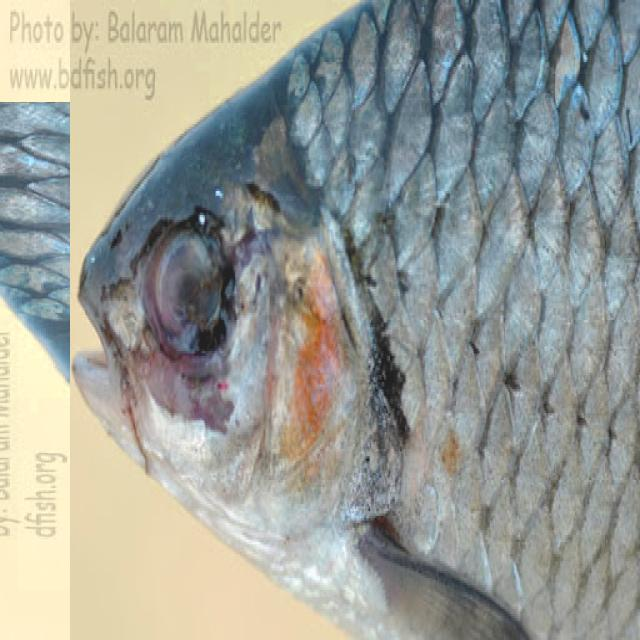EUS Disease: (70, 0, 640, 640), (18, 50, 556, 590)
